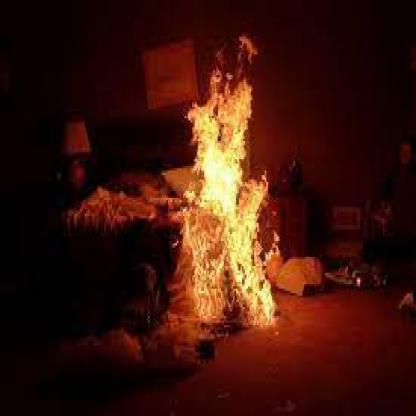fire: (170, 56, 283, 323)
